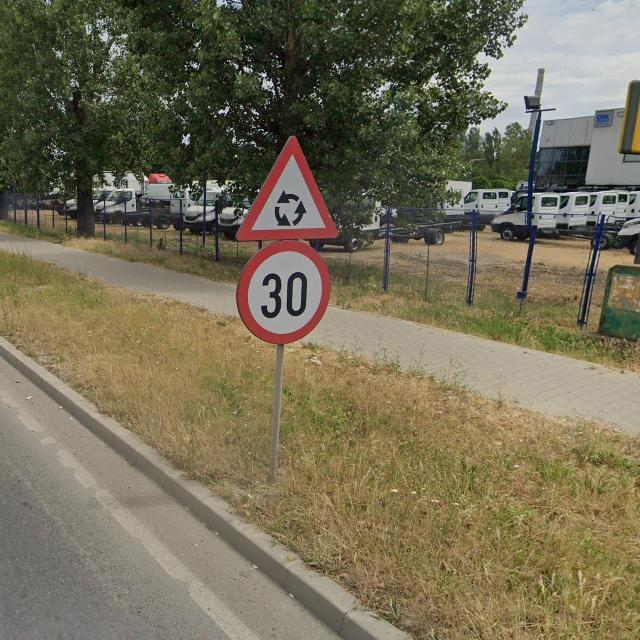forb_speed_over_30: (238, 245, 330, 347)
